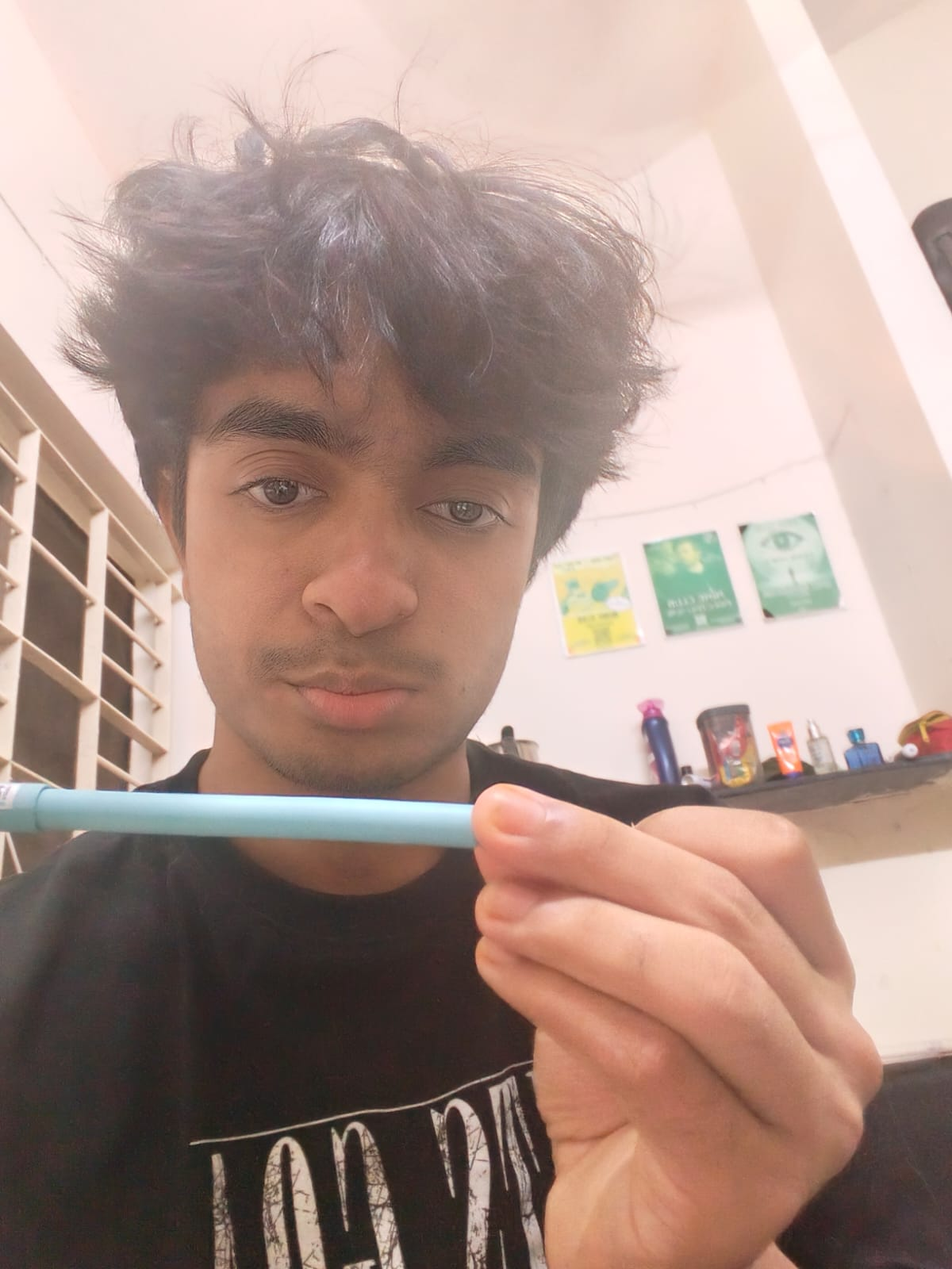pen: (4, 733, 481, 869)
